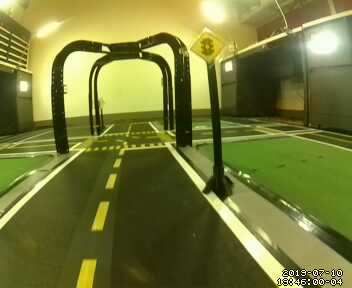Traffic light sign: (189, 28, 224, 64)
